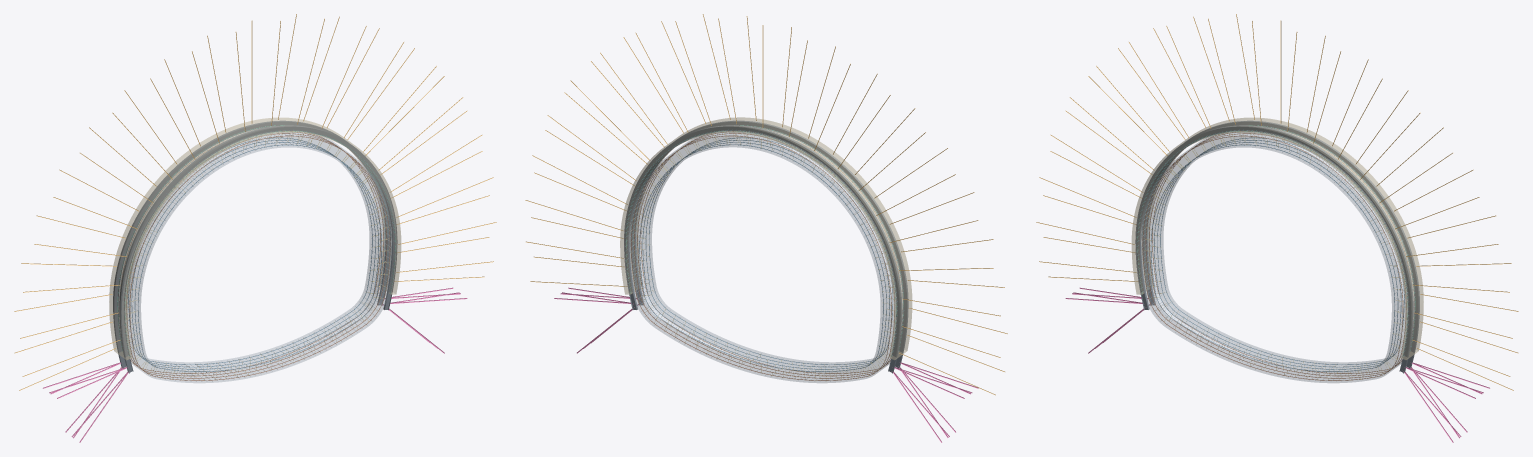
File: ZZ-S_support_1m.glb
The picture shows the model from 3 angles, left to right: view 1: azimuth 30°, elevation 25°; view 2: azimuth 150°, elevation 25°; view 3: azimuth 330°, elevation 25°; orthographic projection.
Parts seen in each view (by area): view 1: secondaryLining, primarySupportConcrete, steelArch_002, steelArch_001, N3, N4, N1_004, N2_004, N2_003, N2_002, N1_003, N2_001 (+2 smaller); view 2: secondaryLining, primarySupportConcrete, steelArch_001, steelArch_002, N3, N4, N1_001, N2_001, N2_002, N2_003, N1_002, N2_004 (+2 smaller); view 3: secondaryLining, primarySupportConcrete, steelArch_002, steelArch_001, N3, N4, N1_004, N2_004, N2_003, N2_002, N1_003, N2_001 (+2 smaller).
Part boxes in pixels (left/top/right/bottom): secondaryLining: left=119, top=131, right=392, bottom=383; primarySupportConcrete: left=109, top=117, right=401, bottom=359; steelArch_002: left=119, top=125, right=397, bottom=373; steelArch_001: left=113, top=120, right=390, bottom=368; N3: left=127, top=133, right=391, bottom=381; N4: left=127, top=133, right=389, bottom=380; N1_004: left=129, top=135, right=390, bottom=380; N2_004: left=138, top=144, right=381, bottom=371; N2_003: left=134, top=142, right=378, bottom=369; N2_002: left=131, top=140, right=375, bottom=367; N1_003: left=126, top=133, right=387, bottom=378; N2_001: left=128, top=137, right=372, bottom=364; secondaryLining: left=628, top=131, right=902, bottom=383; primarySupportConcrete: left=620, top=117, right=912, bottom=359; steelArch_001: left=624, top=125, right=902, bottom=373; steelArch_002: left=630, top=120, right=908, bottom=368; N3: left=630, top=133, right=893, bottom=381; N4: left=630, top=133, right=893, bottom=381; N1_001: left=631, top=135, right=891, bottom=380; N2_001: left=639, top=144, right=883, bottom=371; N2_002: left=642, top=142, right=886, bottom=369; N2_003: left=645, top=140, right=889, bottom=367; N1_002: left=634, top=133, right=894, bottom=378; N2_004: left=649, top=137, right=892, bottom=364; secondaryLining: left=1140, top=131, right=1413, bottom=383; primarySupportConcrete: left=1131, top=117, right=1423, bottom=359; steelArch_002: left=1135, top=125, right=1413, bottom=373; steelArch_001: left=1142, top=120, right=1419, bottom=368; N3: left=1141, top=133, right=1405, bottom=381; N4: left=1143, top=133, right=1405, bottom=380; N1_004: left=1142, top=135, right=1403, bottom=380; N2_004: left=1151, top=144, right=1394, bottom=371; N2_003: left=1154, top=142, right=1398, bottom=369; N2_002: left=1157, top=140, right=1401, bottom=367; N1_003: left=1145, top=133, right=1406, bottom=378; N2_001: left=1160, top=137, right=1404, bottom=364.
Size of the model in its own units: 21.76 by 16.16 by 1.15.
